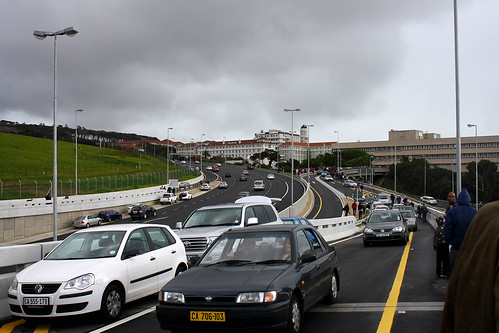building: (329, 132, 499, 182), (178, 128, 335, 170)
car: (9, 223, 187, 320), (174, 227, 344, 323), (172, 193, 284, 262), (360, 209, 414, 247), (74, 209, 103, 227), (128, 203, 156, 220), (97, 206, 124, 222), (250, 176, 266, 192)
grass: (1, 136, 168, 199)
light pole: (32, 26, 78, 245), (281, 107, 301, 209)
sky: (12, 1, 499, 121)
